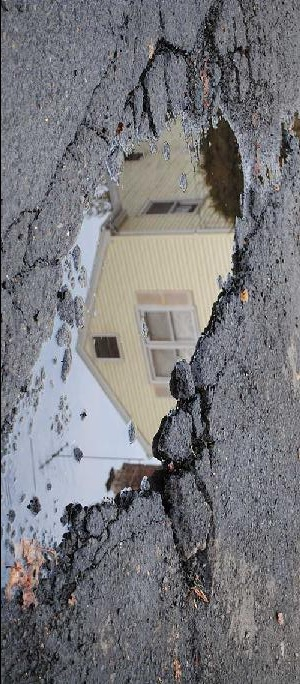pothole: (0, 29, 261, 606)
